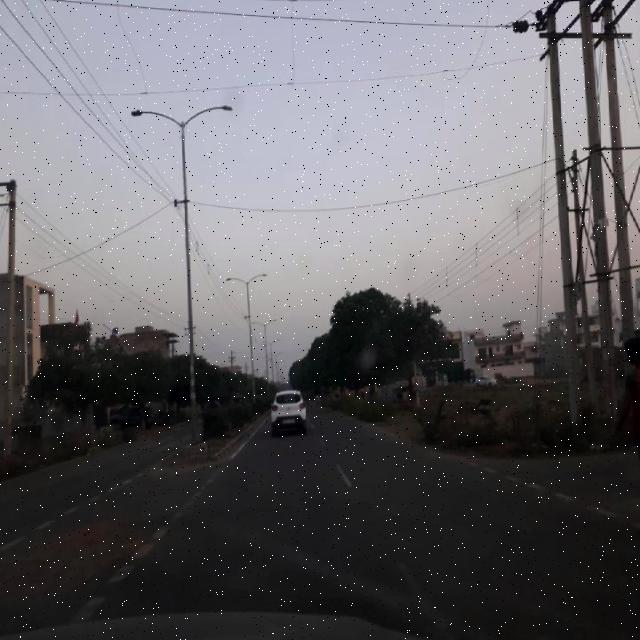D44: (390, 550, 459, 630)
